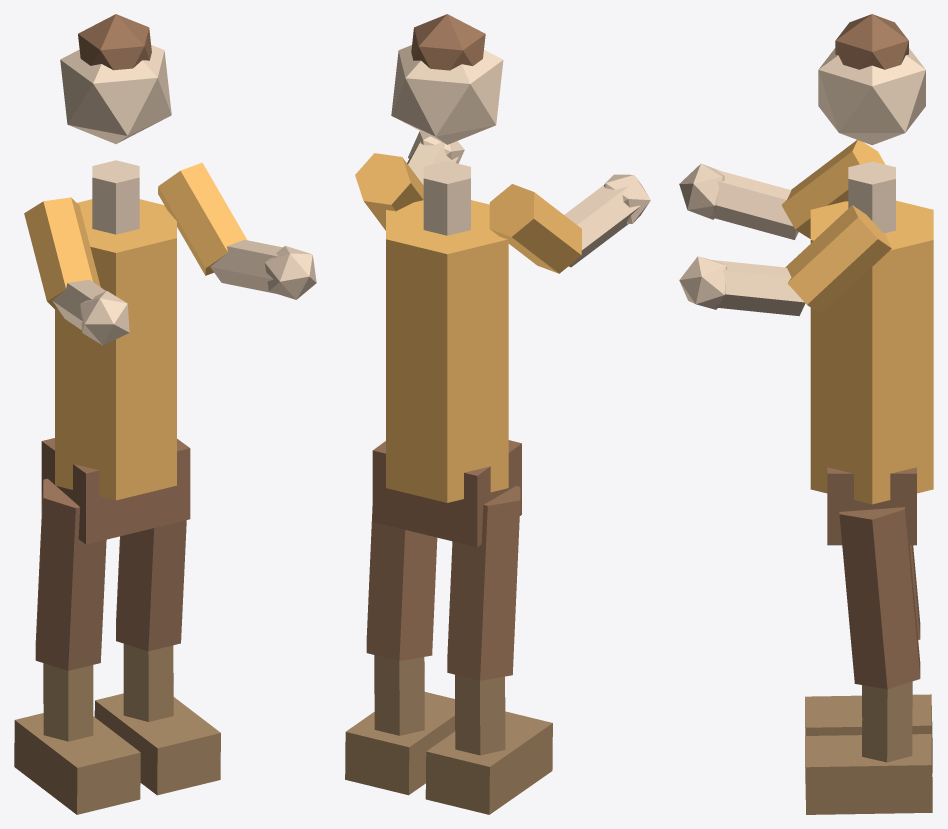
Rendered from pose_dodge_roll_01.glb.
3 renders of one model, left to right at view 1: azimuth 30°, elevation 25°; view 2: azimuth 150°, elevation 25°; view 3: azimuth 270°, elevation 25°, orthographic.
Parts seen in each view (by area): view 1: pose; view 2: pose; view 3: pose.
Part boxes in pixels (bbox=[...]): pose: bbox=[14, 14, 316, 814]; pose: bbox=[345, 14, 650, 814]; pose: bbox=[679, 14, 933, 814].
Size of the model in its own units: 0.5084 by 1.6 by 0.4831.
